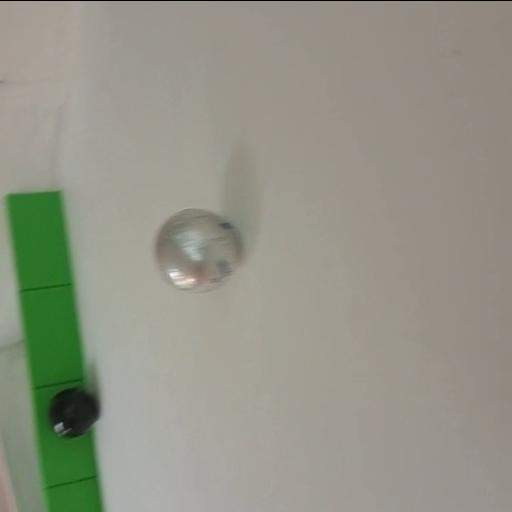alive: (152, 204, 244, 294)
dead: (46, 386, 100, 440)
